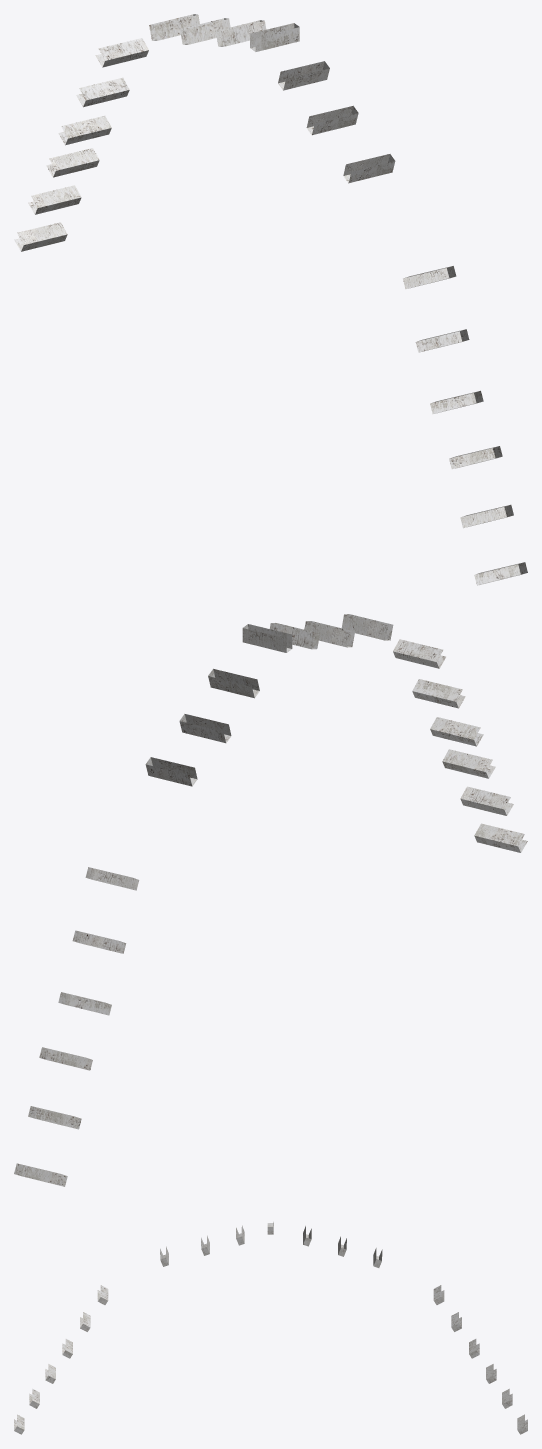
The model's file is barnOuterTimbers_01_LOD1.FBX.
The picture shows the model from 3 angles, top to bottom: view 1: azimuth 30°, elevation 25°; view 2: azimuth 150°, elevation 25°; view 3: azimuth 270°, elevation 25°; orthographic projection. The views are drawn at different scales.
Parts seen in each view (by area): view 1: barnOuterTimbers_01_LOD1; view 2: barnOuterTimbers_01_LOD1; view 3: barnOuterTimbers_01_LOD1.
Part boxes in pixels (x1,y1,x2,y2): barnOuterTimbers_01_LOD1: [14, 14, 527, 585]; barnOuterTimbers_01_LOD1: [14, 614, 527, 1186]; barnOuterTimbers_01_LOD1: [14, 1222, 527, 1434].
Bounding box in the file's own units: 70.06 × 521 × 1161.
